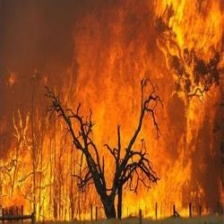fire: (1, 74, 208, 223), (154, 2, 224, 68)
